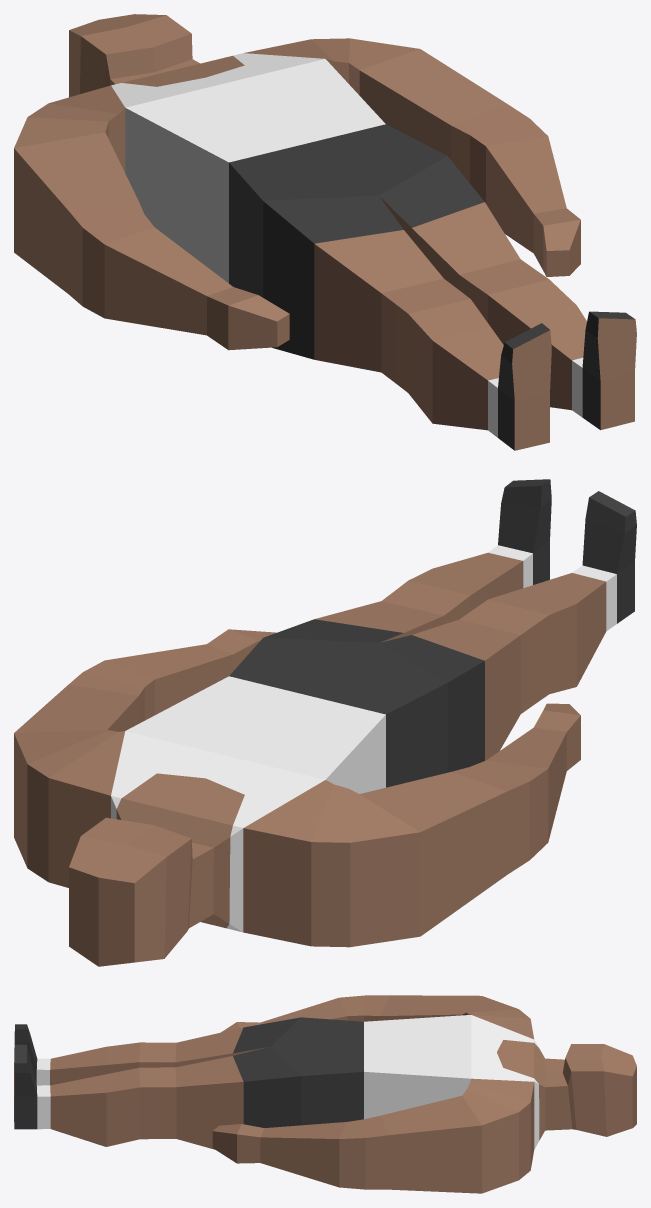
File: MuscleMan1.fbx
3 renders of one model, top to bottom at view 1: azimuth 30°, elevation 25°; view 2: azimuth 150°, elevation 25°; view 3: azimuth 270°, elevation 25°, orthographic. The views are drawn at different scales.
Parts seen in each view (by area): view 1: MuscleMan; view 2: MuscleMan; view 3: MuscleMan.
Boxes of the visible parts, x1,y1,x2,y2 form: MuscleMan: [14, 14, 636, 450]; MuscleMan: [14, 479, 636, 966]; MuscleMan: [14, 995, 636, 1193].
Size of the model in its own units: 98.57 by 35.75 by 182.
